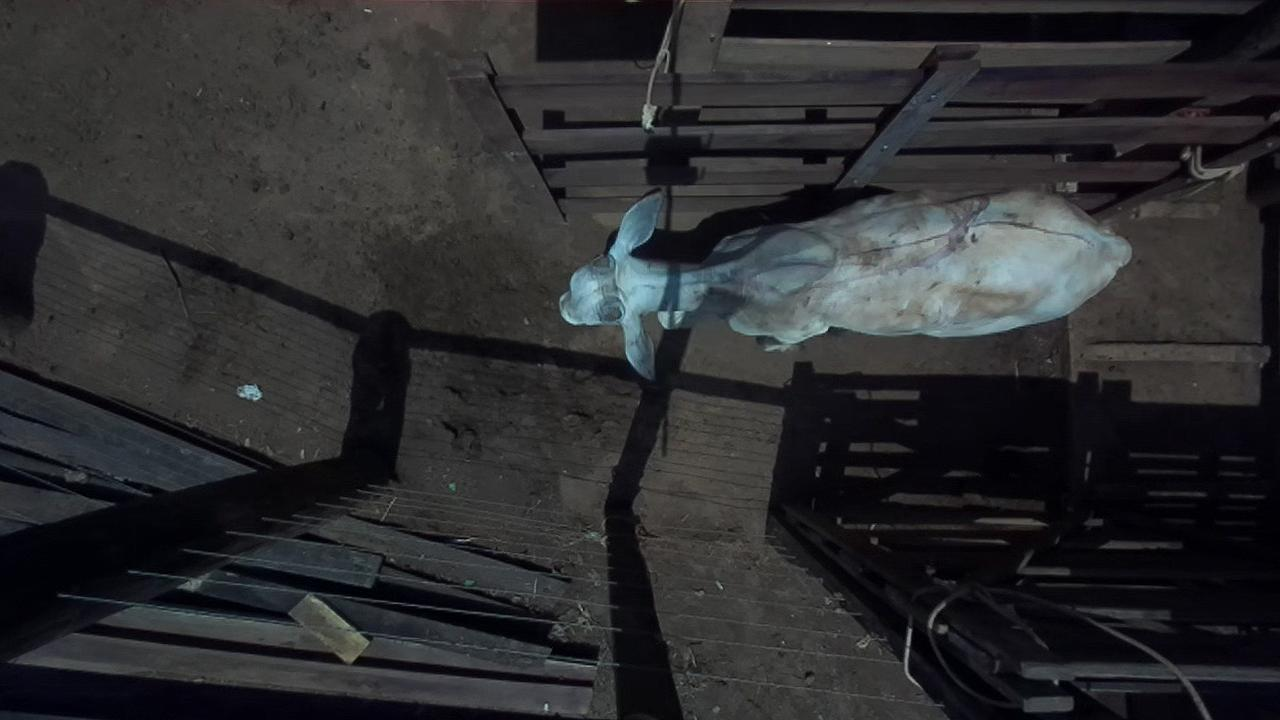cattle: (557, 183, 1133, 380)
